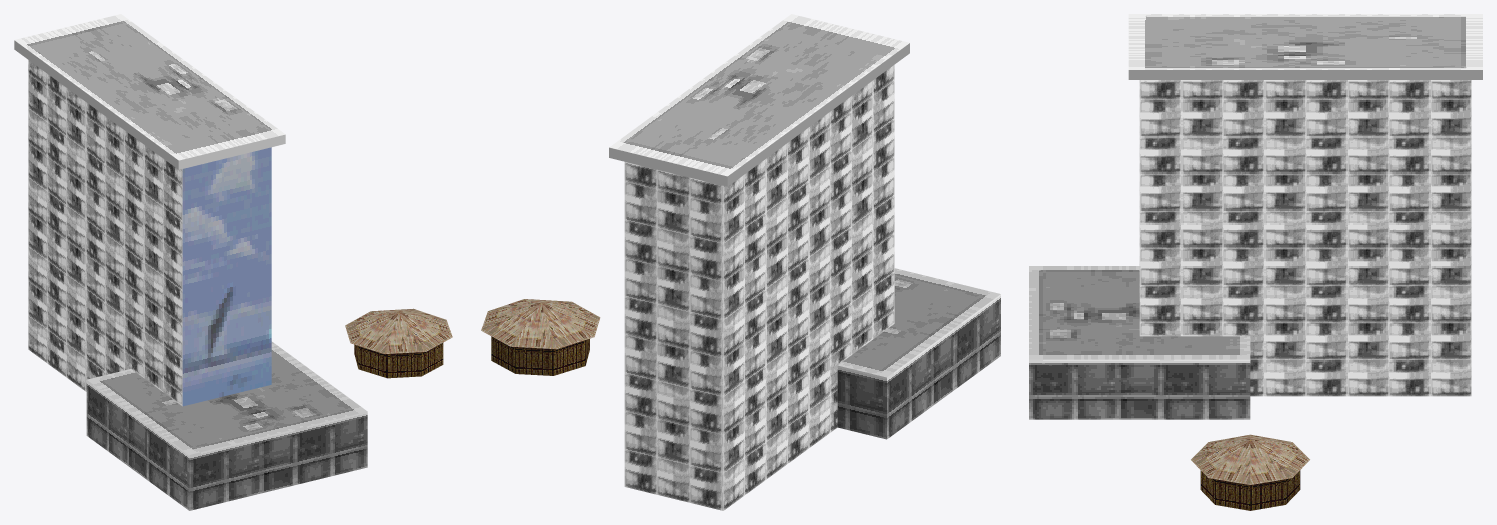
The model's file is uvmd-0064.glb.
The picture shows the model from 3 angles, left to right: view 1: azimuth 30°, elevation 25°; view 2: azimuth 150°, elevation 25°; view 3: azimuth 270°, elevation 25°; orthographic projection. The views are drawn at different scales.
Parts seen in each view (by area): view 1: uvmd-0064; view 2: uvmd-0064; view 3: uvmd-0064.
Boxes of the visible parts, bbox=[...] form: uvmd-0064: bbox=[14, 14, 452, 510]; uvmd-0064: bbox=[481, 14, 1000, 510]; uvmd-0064: bbox=[1029, 14, 1482, 510].
Bounding box in the file's own units: 404 × 330 × 410.
Materials: 7 (7 with a texture image).
